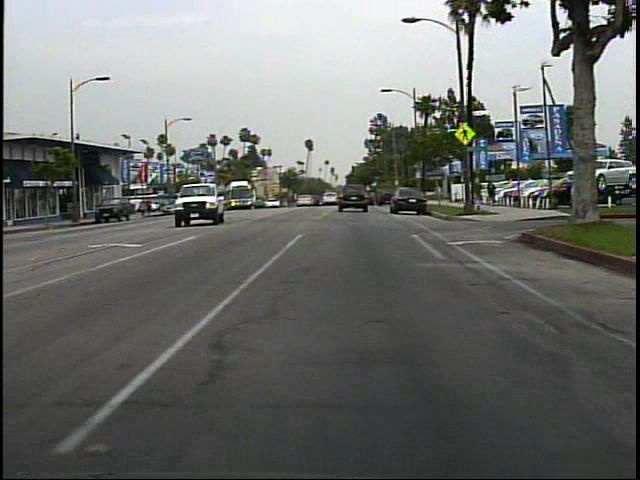person: (566, 173, 590, 226)
